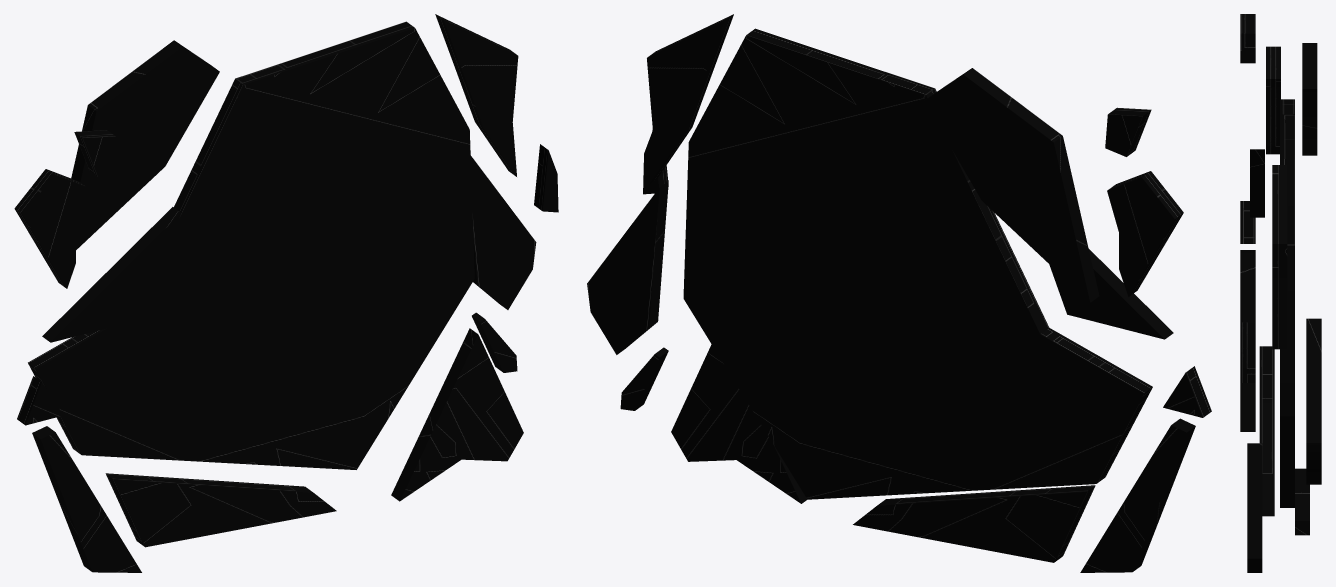
File: M_MemoryShard_test_2.fbx
The picture shows the model from 3 angles, left to right: view 1: azimuth 30°, elevation 25°; view 2: azimuth 150°, elevation 25°; view 3: azimuth 270°, elevation 25°; orthographic projection. The views are drawn at different scales.
Visible parts, largest first — view 1: polySurface29; view 2: polySurface29; view 3: polySurface29.
Boxes of the visible parts, box(x1,y1,x2,y2) form: polySurface29: box(14, 14, 558, 572); polySurface29: box(587, 14, 1211, 572); polySurface29: box(1240, 14, 1321, 572).
Size of the model in its own units: 8.16 by 6.85 by 1.2.
Materials: 1 (1 with a texture image).
